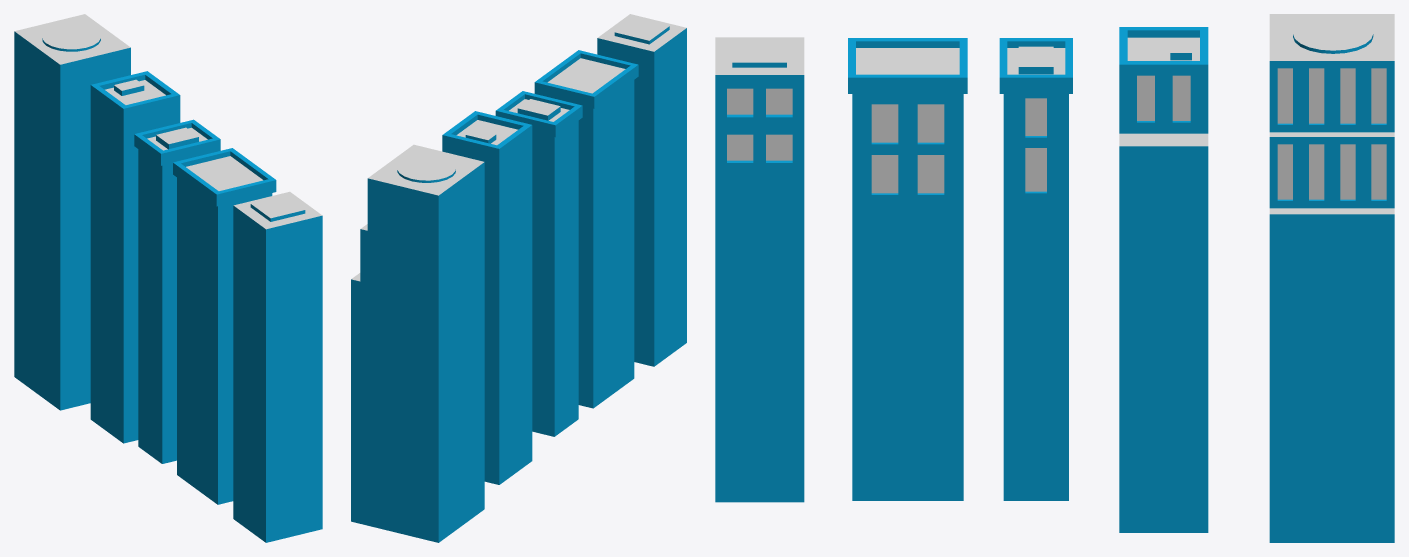
The model's file is Apartment1.fbx.
3 renders of one model, left to right at view 1: azimuth 30°, elevation 25°; view 2: azimuth 150°, elevation 25°; view 3: azimuth 270°, elevation 25°, orthographic. The views are drawn at different scales.
Parts seen in each view (by area): view 1: Apartment, Apartment3, Apartment1, Apartment5, Apartment2, Apartment4; view 2: Apartment3, Apartment1, Apartment, Apartment5, Apartment2, Apartment4; view 3: Apartment3, Apartment1, Apartment5, Apartment, Apartment2, Apartment4.
Boxes of the visible parts, x1,y1,x2,y2 form: Apartment: (233,191,322,542); Apartment3: (14,14,130,410); Apartment1: (173,148,276,504); Apartment5: (90,71,180,443); Apartment2: (134,119,220,463); Apartment4: (42,24,100,51); Apartment3: (351,144,484,542); Apartment1: (534,50,638,408); Apartment: (597,14,686,366); Apartment5: (442,111,532,484); Apartment2: (495,91,582,436); Apartment4: (397,155,455,182); Apartment3: (1269,14,1394,542); Apartment1: (848,38,967,500); Apartment5: (1119,27,1208,532); Apartment: (715,37,804,502); Apartment2: (999,38,1072,500); Apartment4: (1293,16,1373,53).
Size of the model in its own units: 803 by 3060 by 3973.
